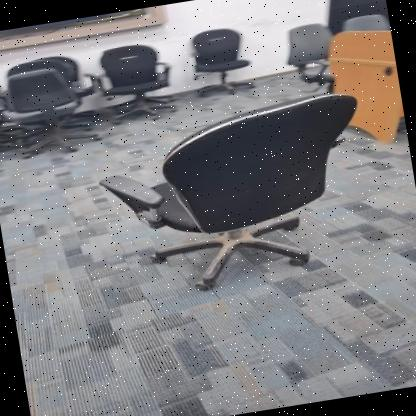chair: (89, 80, 388, 311), (0, 56, 99, 160), (92, 33, 191, 128), (183, 20, 260, 106)
